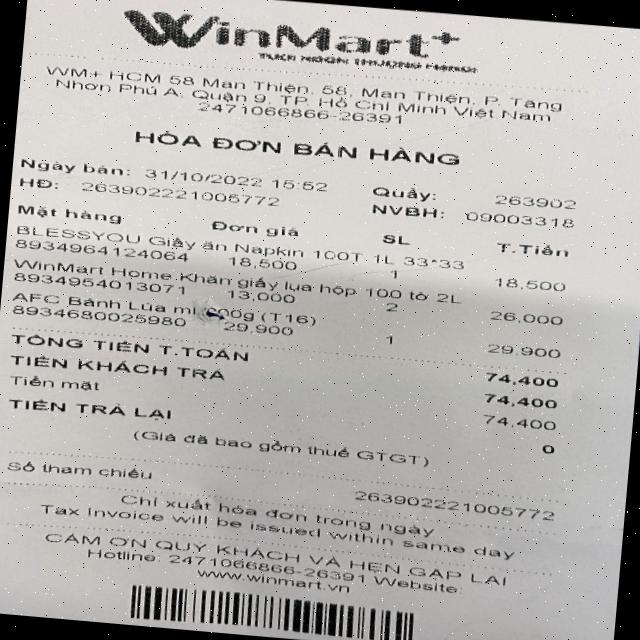Date: (134, 159, 276, 192)
Store_Name: (56, 0, 566, 94)
amount_number: (481, 368, 564, 391)
label_total: (2, 328, 256, 366)
